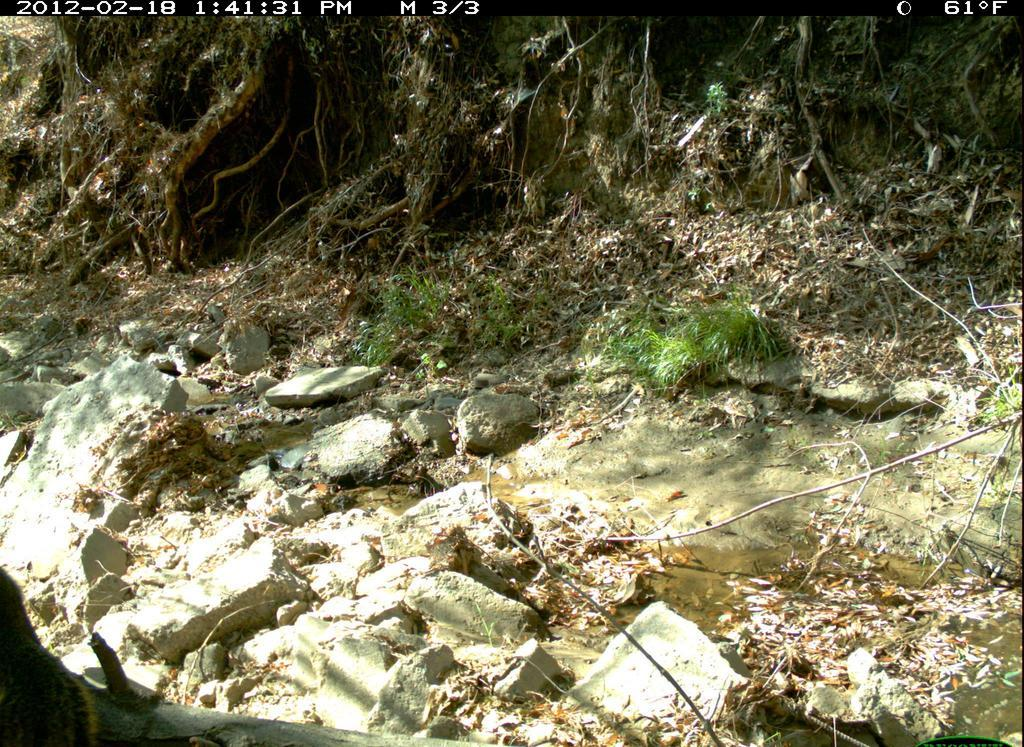squirrel: (3, 562, 125, 745)
